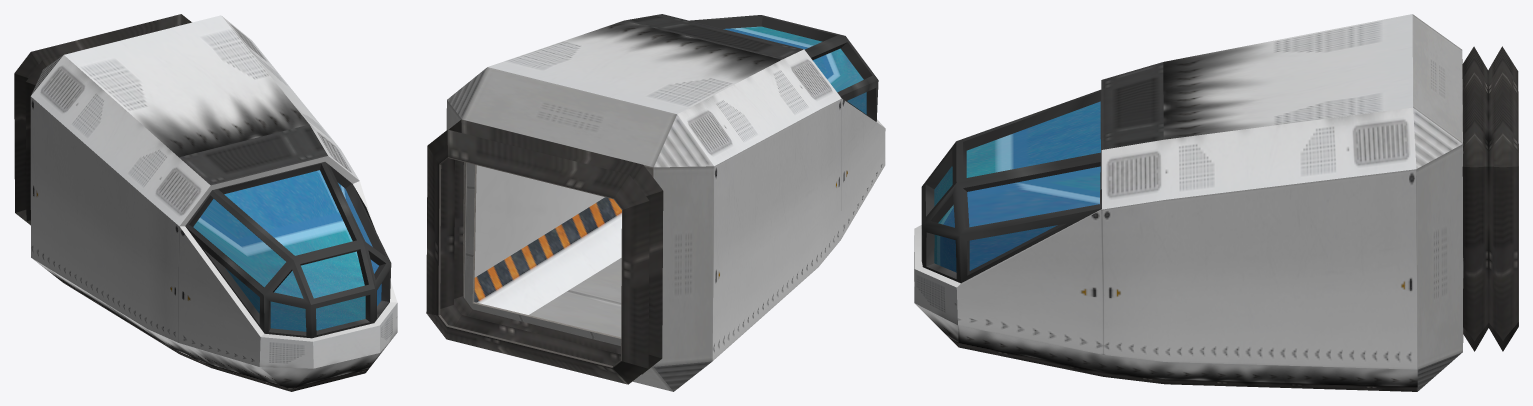
The model's file is Colony_UFO_Art.glb.
3 renders of one model, left to right at view 1: azimuth 30°, elevation 25°; view 2: azimuth 150°, elevation 25°; view 3: azimuth 270°, elevation 25°, orthographic. The views are drawn at different scales.
Parts seen in each view (by area): view 1: Colony_UFO_Art; view 2: Colony_UFO_Art; view 3: Colony_UFO_Art.
Part boxes in pixels (x1=…): Colony_UFO_Art: x1=14, y1=14, x2=397, y2=391; Colony_UFO_Art: x1=426, y1=14, x2=885, y2=391; Colony_UFO_Art: x1=914, y1=14, x2=1518, y2=391.
Size of the model in its own units: 3.64 by 3.6 by 6.93.
Materials: 2 (2 with a texture image).
